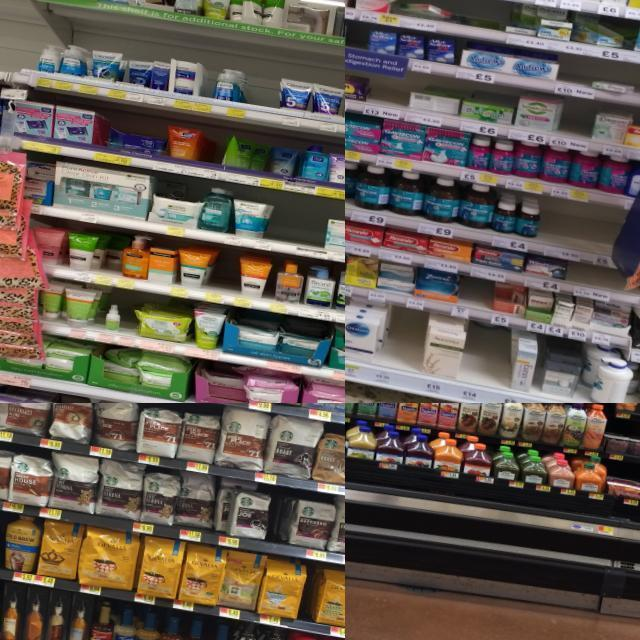Imprecise: (250, 139, 298, 178), (393, 0, 447, 18), (588, 76, 636, 94)
